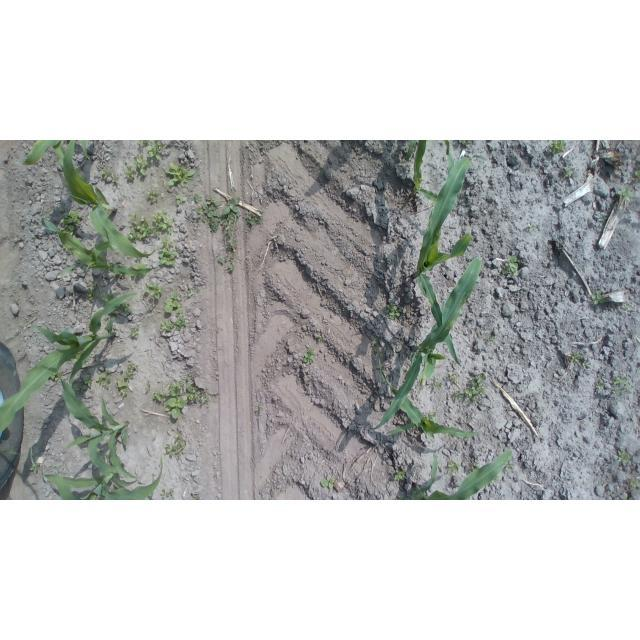Maize: (1, 286, 153, 442), (367, 255, 488, 434), (408, 155, 476, 370), (59, 141, 159, 259), (56, 376, 138, 483), (37, 218, 162, 282), (392, 447, 520, 500), (46, 455, 169, 500), (385, 413, 484, 443), (403, 142, 453, 197)
Weeds: (153, 375, 211, 422), (217, 193, 242, 277), (191, 193, 219, 232), (457, 373, 488, 406), (163, 160, 196, 189), (126, 211, 153, 243), (163, 430, 187, 459), (152, 210, 174, 238), (158, 237, 177, 268), (158, 315, 188, 334), (610, 375, 634, 398), (60, 210, 85, 232), (246, 201, 263, 230), (499, 254, 520, 277), (614, 186, 634, 210), (570, 349, 591, 371), (164, 291, 183, 314), (368, 334, 387, 356), (133, 155, 149, 180), (100, 167, 121, 186), (143, 142, 162, 163), (144, 283, 163, 302), (386, 301, 405, 320), (560, 163, 577, 182), (75, 375, 94, 392), (551, 141, 570, 158), (122, 360, 138, 380), (625, 477, 640, 497), (98, 368, 111, 390), (113, 376, 127, 396), (590, 290, 606, 307), (318, 474, 335, 490), (445, 460, 462, 475), (86, 283, 99, 302), (302, 347, 315, 366), (147, 188, 162, 204), (160, 486, 176, 500), (615, 449, 629, 464), (430, 379, 446, 392), (123, 164, 136, 180), (592, 378, 607, 391), (395, 470, 410, 483), (118, 302, 133, 315), (100, 293, 117, 304), (130, 324, 141, 341), (447, 373, 461, 386), (187, 287, 201, 300), (174, 193, 187, 207), (316, 331, 329, 343), (49, 371, 63, 382), (620, 303, 633, 314), (526, 224, 541, 233), (598, 215, 611, 225), (469, 464, 481, 472), (634, 167, 640, 181), (506, 463, 514, 473)
